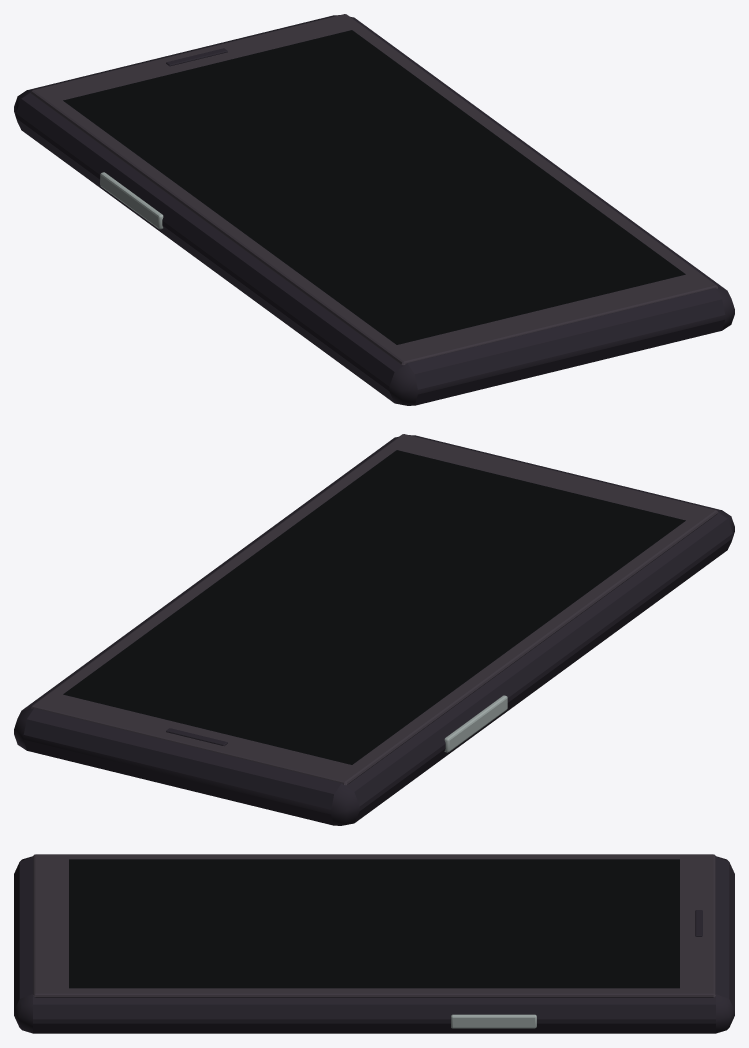
File: Phone.fbx
3 renders of one model, top to bottom at view 1: azimuth 30°, elevation 25°; view 2: azimuth 150°, elevation 25°; view 3: azimuth 270°, elevation 25°, orthographic. The views are drawn at different scales.
Visible parts, largest first — view 1: Phone; view 2: Phone; view 3: Phone.
Boxes of the visible parts, box(x1,y1,x2,y2) form: Phone: box(14, 14, 734, 405); Phone: box(14, 434, 734, 825); Phone: box(14, 854, 734, 1033).
Bounding box in the file's own units: 0.0772 × 0.0126 × 0.151.
